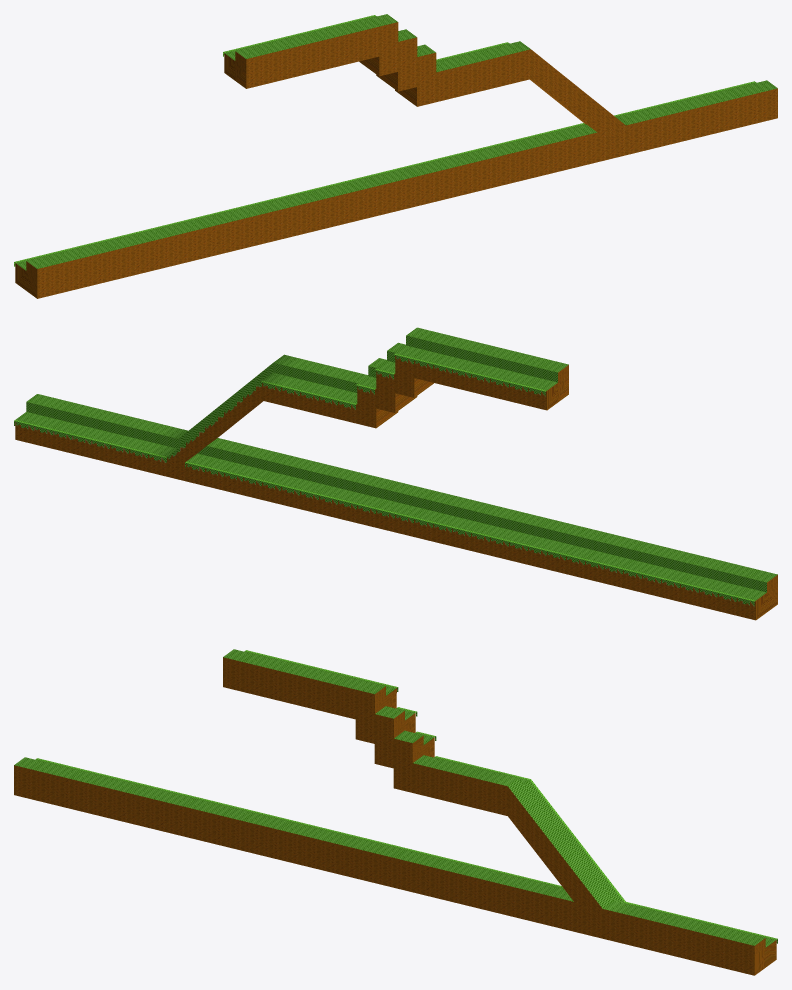
Rendered from stage01_A.fbx.
3 renders of one model, top to bottom at view 1: azimuth 30°, elevation 25°; view 2: azimuth 150°, elevation 25°; view 3: azimuth 330°, elevation 25°, orthographic.
Visible parts, largest first — view 1: polymsh; view 2: polymsh; view 3: polymsh.
Boxes of the visible parts, <box> form: polymsh: <box>14,14,777,298</box>; polymsh: <box>14,327,777,620</box>; polymsh: <box>14,649,777,975</box>.
Size of the model in its own units: 3081 by 751 by 168.
